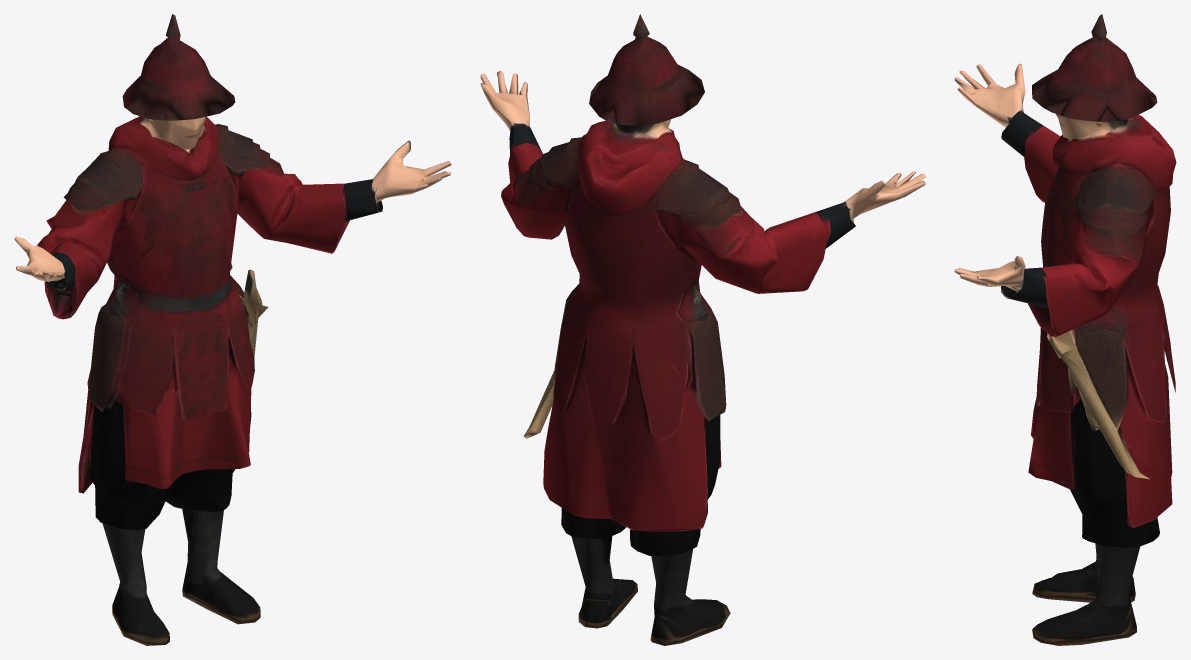
Rendered from unit_DV_DAO.glb.
The picture shows the model from 3 angles, left to right: view 1: azimuth 30°, elevation 25°; view 2: azimuth 150°, elevation 25°; view 3: azimuth 270°, elevation 25°; orthographic projection. The views are drawn at different scales.
Bounding box in the file's own units: 1.45 × 1.9 × 0.6357.
1 material, 1 textured.
